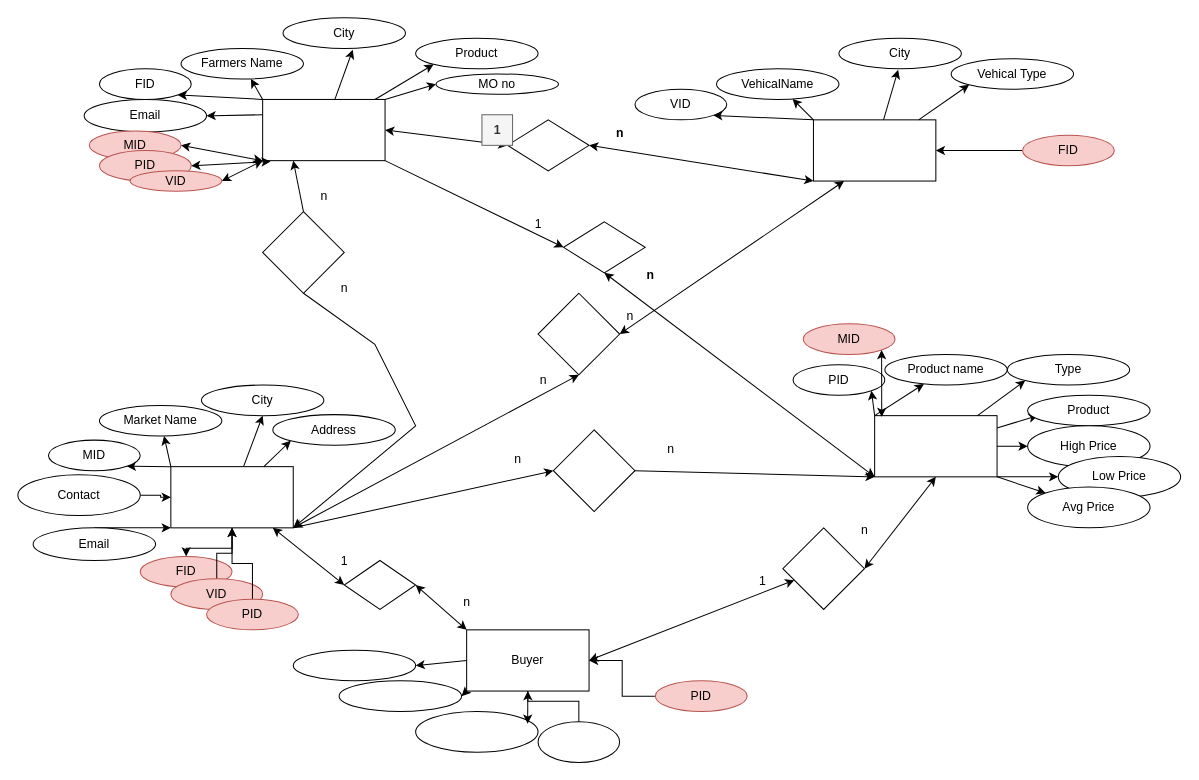
This 1199x780 diagram has some shape labels left out. The box of each missing label's shape, as (x1, y1, x2, y2) in pixels:
BID: (292, 649, 416, 681)
Buyer Email: (537, 721, 620, 762)
Buyer Mo: (415, 710, 538, 752)
Buyer Name: (338, 680, 462, 711)
Farmers: (262, 98, 385, 161)
Marktes: (170, 466, 293, 528)
Products: (874, 415, 997, 477)
Vehicals: (812, 119, 936, 181)
